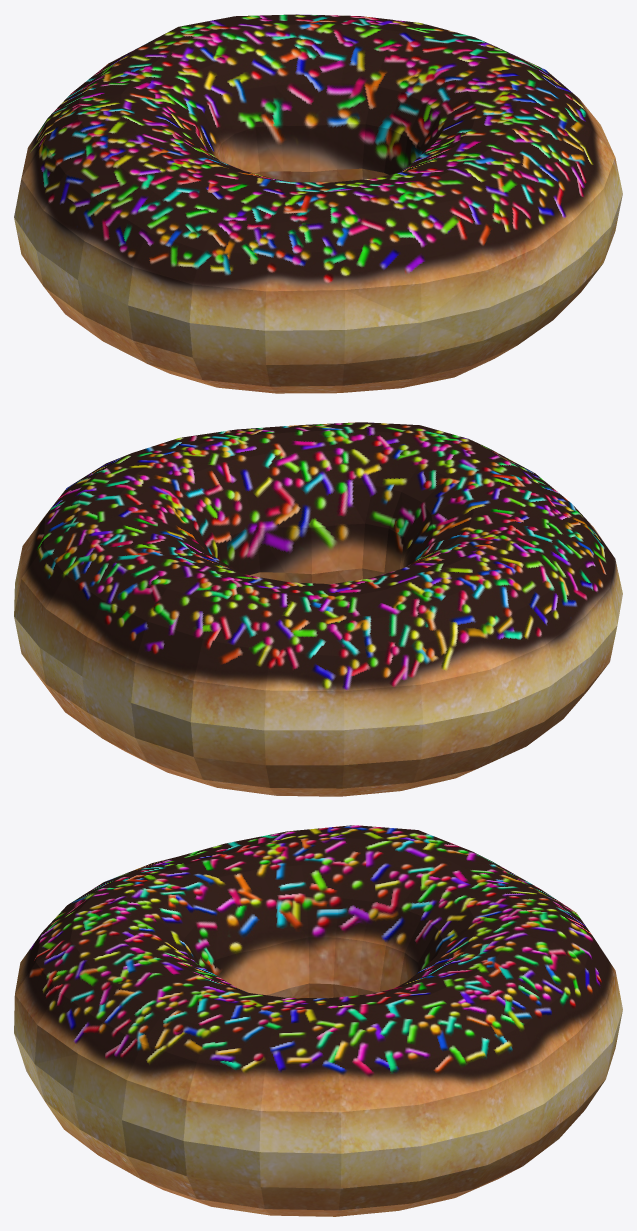
Rendered from Donut_1.FBX.
3 views of the same model, one above another, from view 1: azimuth 30°, elevation 25°; view 2: azimuth 150°, elevation 25°; view 3: azimuth 270°, elevation 25° (orthographic).
Parts seen in each view (by area): view 1: donut_1; view 2: donut_1; view 3: donut_1.
Part boxes in pixels (x1,y1,x2,y2): donut_1: (14,14,622,393); donut_1: (14,422,622,796); donut_1: (14,825,622,1216).
Bounding box in the file's own units: 7.79 × 2.8 × 7.71.
